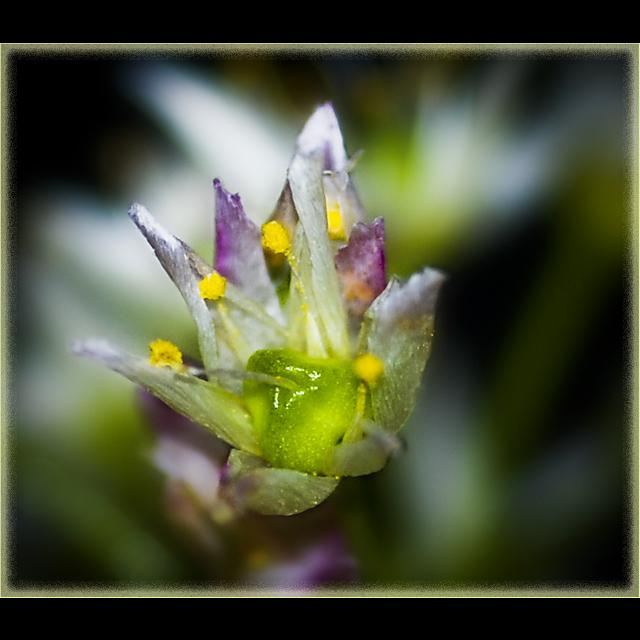Flower: (108, 124, 438, 488)
